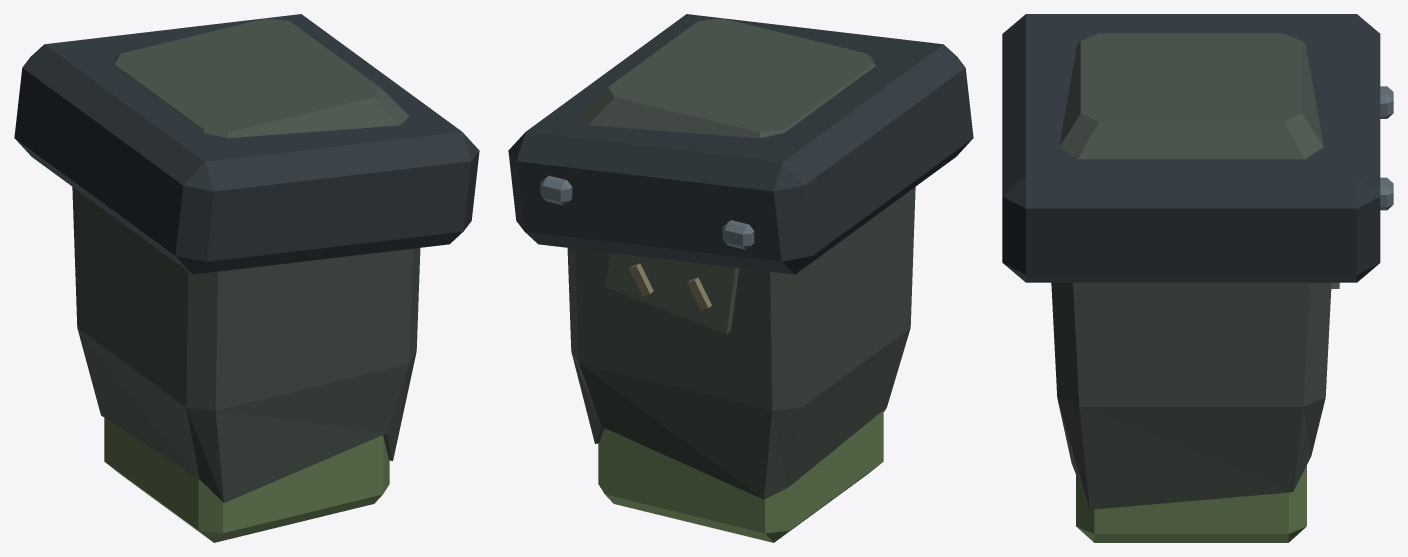
Rendered from ArmRight.glb.
The picture shows the model from 3 angles, left to right: view 1: azimuth 30°, elevation 25°; view 2: azimuth 150°, elevation 25°; view 3: azimuth 270°, elevation 25°; orthographic projection. The views are drawn at different scales.
Parts seen in each view (by area): view 1: Sculpture; view 2: Sculpture; view 3: Sculpture.
Part boxes in pixels (x1=…): Sculpture: x1=14, y1=14, x2=479, y2=542; Sculpture: x1=508, y1=14, x2=973, y2=542; Sculpture: x1=1002, y1=14, x2=1393, y2=542.
Size of the model in its own units: 0.2772 by 0.3618 by 0.3.
